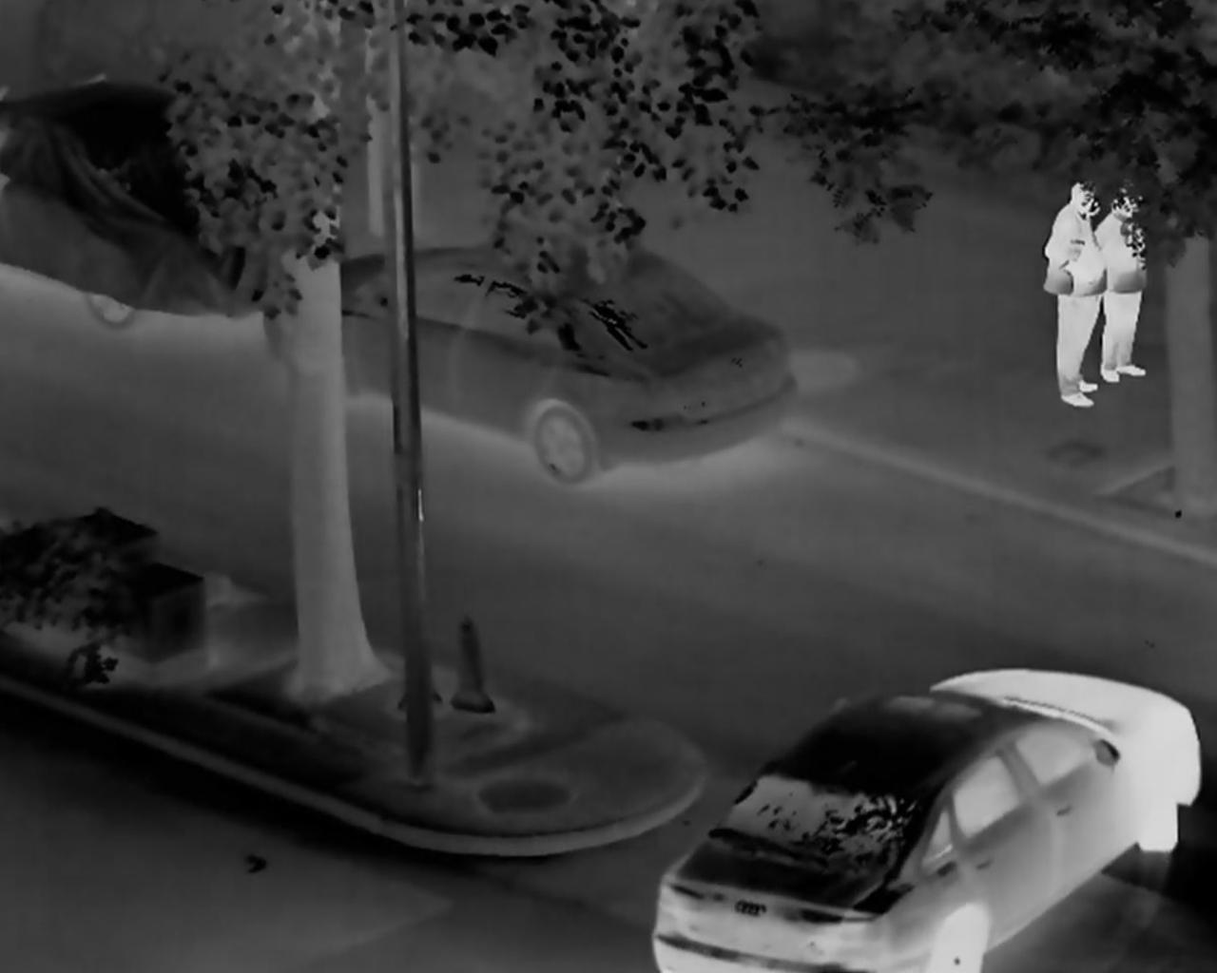person: (1046, 183, 1101, 409), (1091, 187, 1149, 383)
